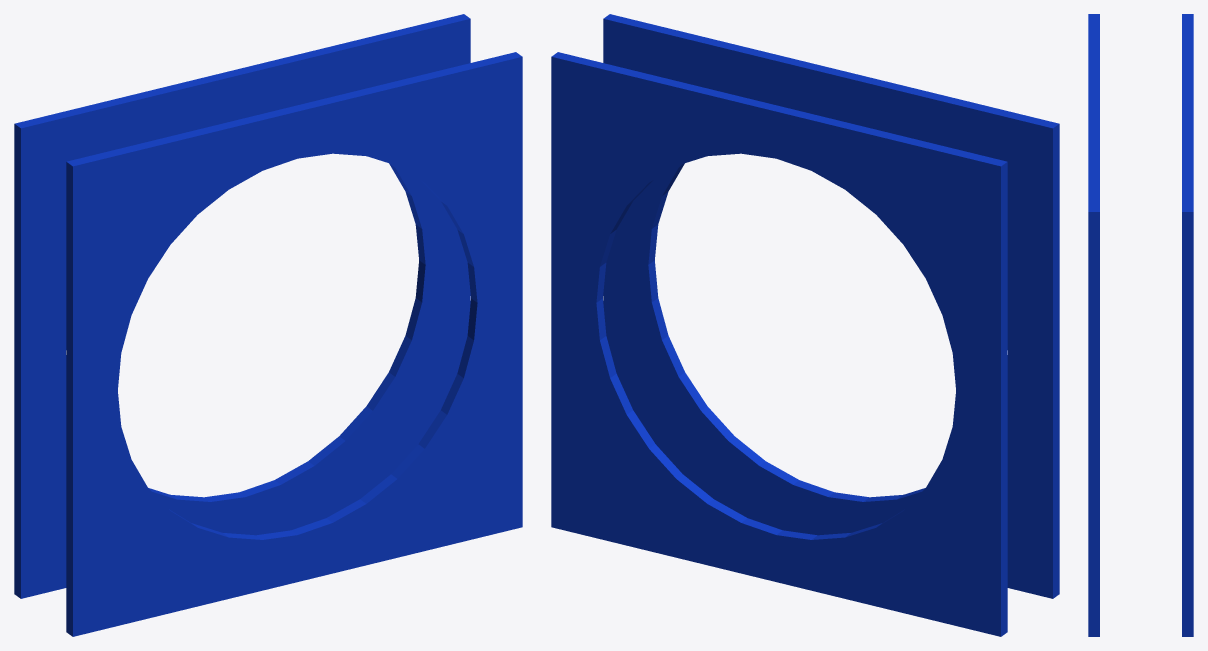
Rendered from spot.dae.
The picture shows the model from 3 angles, left to right: view 1: azimuth 30°, elevation 25°; view 2: azimuth 150°, elevation 25°; view 3: azimuth 270°, elevation 25°; orthographic projection. The views are drawn at different scales.
Visible parts, largest first — view 1: Cube_001; view 2: Cube_001; view 3: Cube_001.
Boxes of the visible parts, left/top/right/bottom form: Cube_001: left=14, top=14, right=522, bottom=636; Cube_001: left=551, top=14, right=1059, bottom=636; Cube_001: left=1088, top=14, right=1193, bottom=636.
Size of the model in its own units: 2 by 0.45 by 2.
